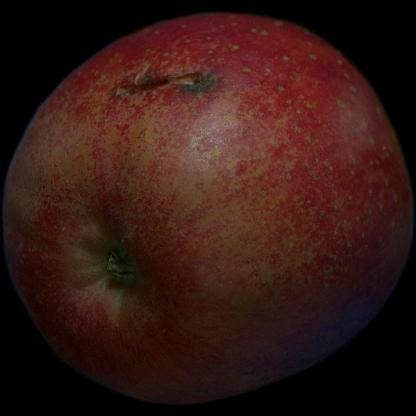defect: (101, 61, 259, 113)
